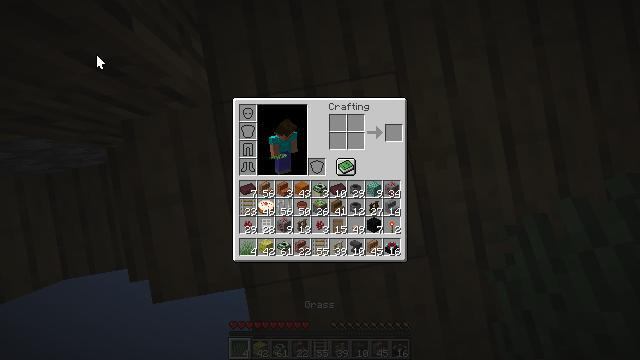cursor: (96, 54, 106, 70)
